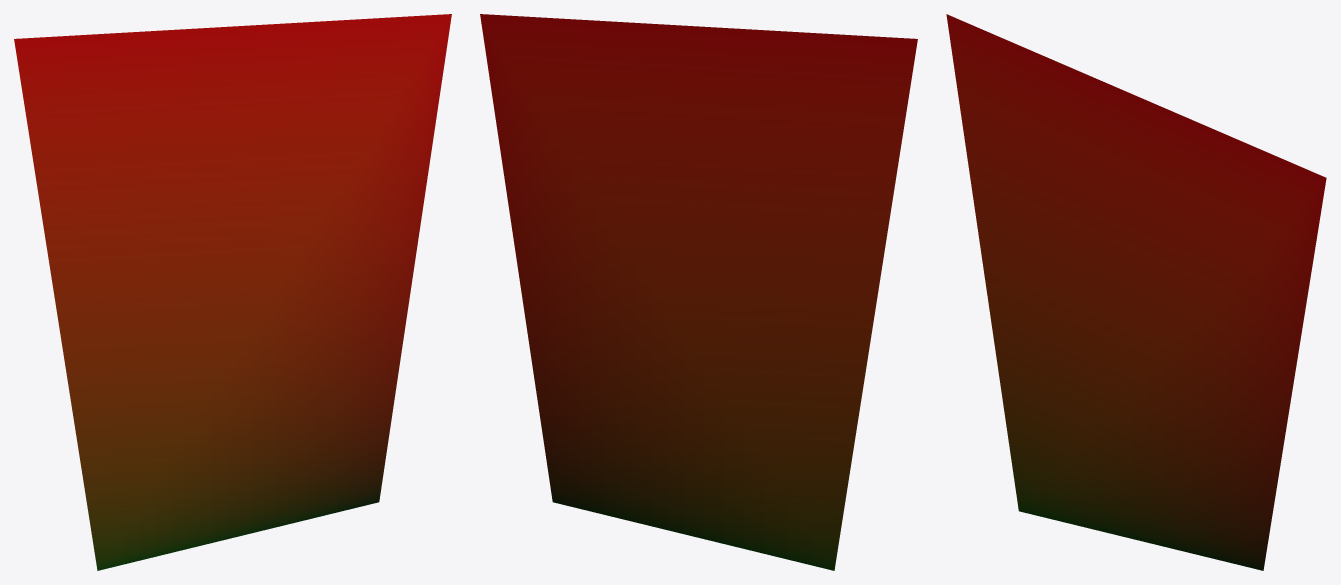
Rendered from Var5_LOD3.fbx.
3 views of the same model, side by side, from view 1: azimuth 30°, elevation 25°; view 2: azimuth 150°, elevation 25°; view 3: azimuth 330°, elevation 25° (orthographic). The views are drawn at different scales.
Parts seen in each view (by area): view 1: _2c75_Var5_LOD3; view 2: _2c75_Var5_LOD3; view 3: _2c75_Var5_LOD3.
Part boxes in pixels (left/top/right/bottom): _2c75_Var5_LOD3: left=14, top=14, right=451, bottom=570; _2c75_Var5_LOD3: left=480, top=14, right=917, bottom=570; _2c75_Var5_LOD3: left=946, top=14, right=1326, bottom=570.
Size of the model in its own units: 19.51 by 23.52 by 1.91e-06.
